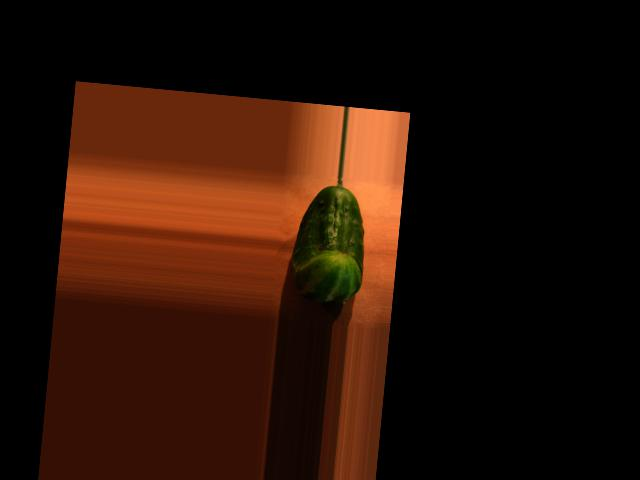cucumber: (289, 182, 371, 305)
